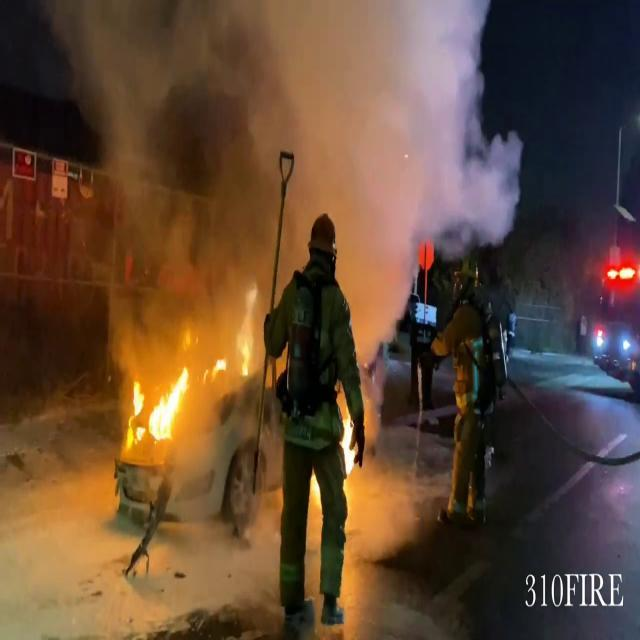Fire: (124, 356, 192, 450), (335, 382, 359, 484)
Smoke: (65, 0, 522, 341)
